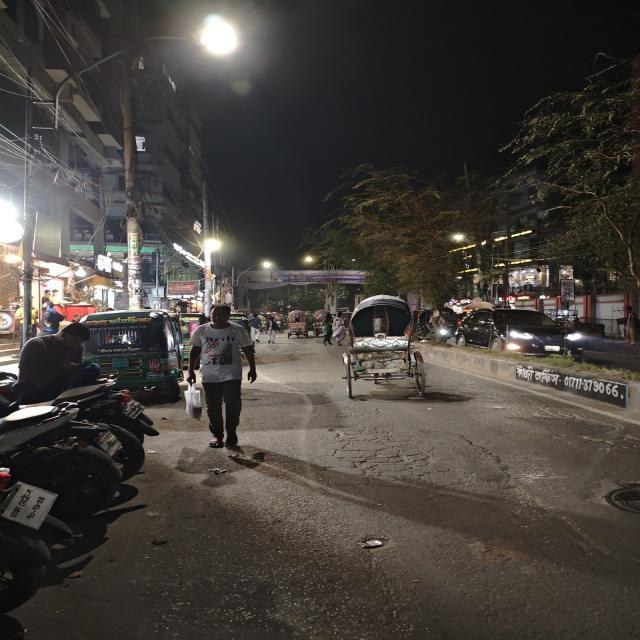car: (456, 305, 590, 364)
cng: (79, 307, 188, 398)
pedestrian: (188, 297, 261, 448)
rickshaw: (340, 291, 433, 406), (418, 303, 452, 344), (284, 308, 312, 338), (312, 307, 332, 335)
